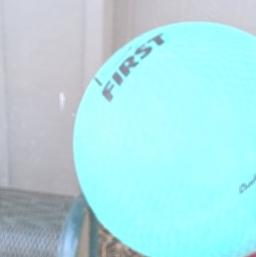algae: (68, 19, 256, 257)
